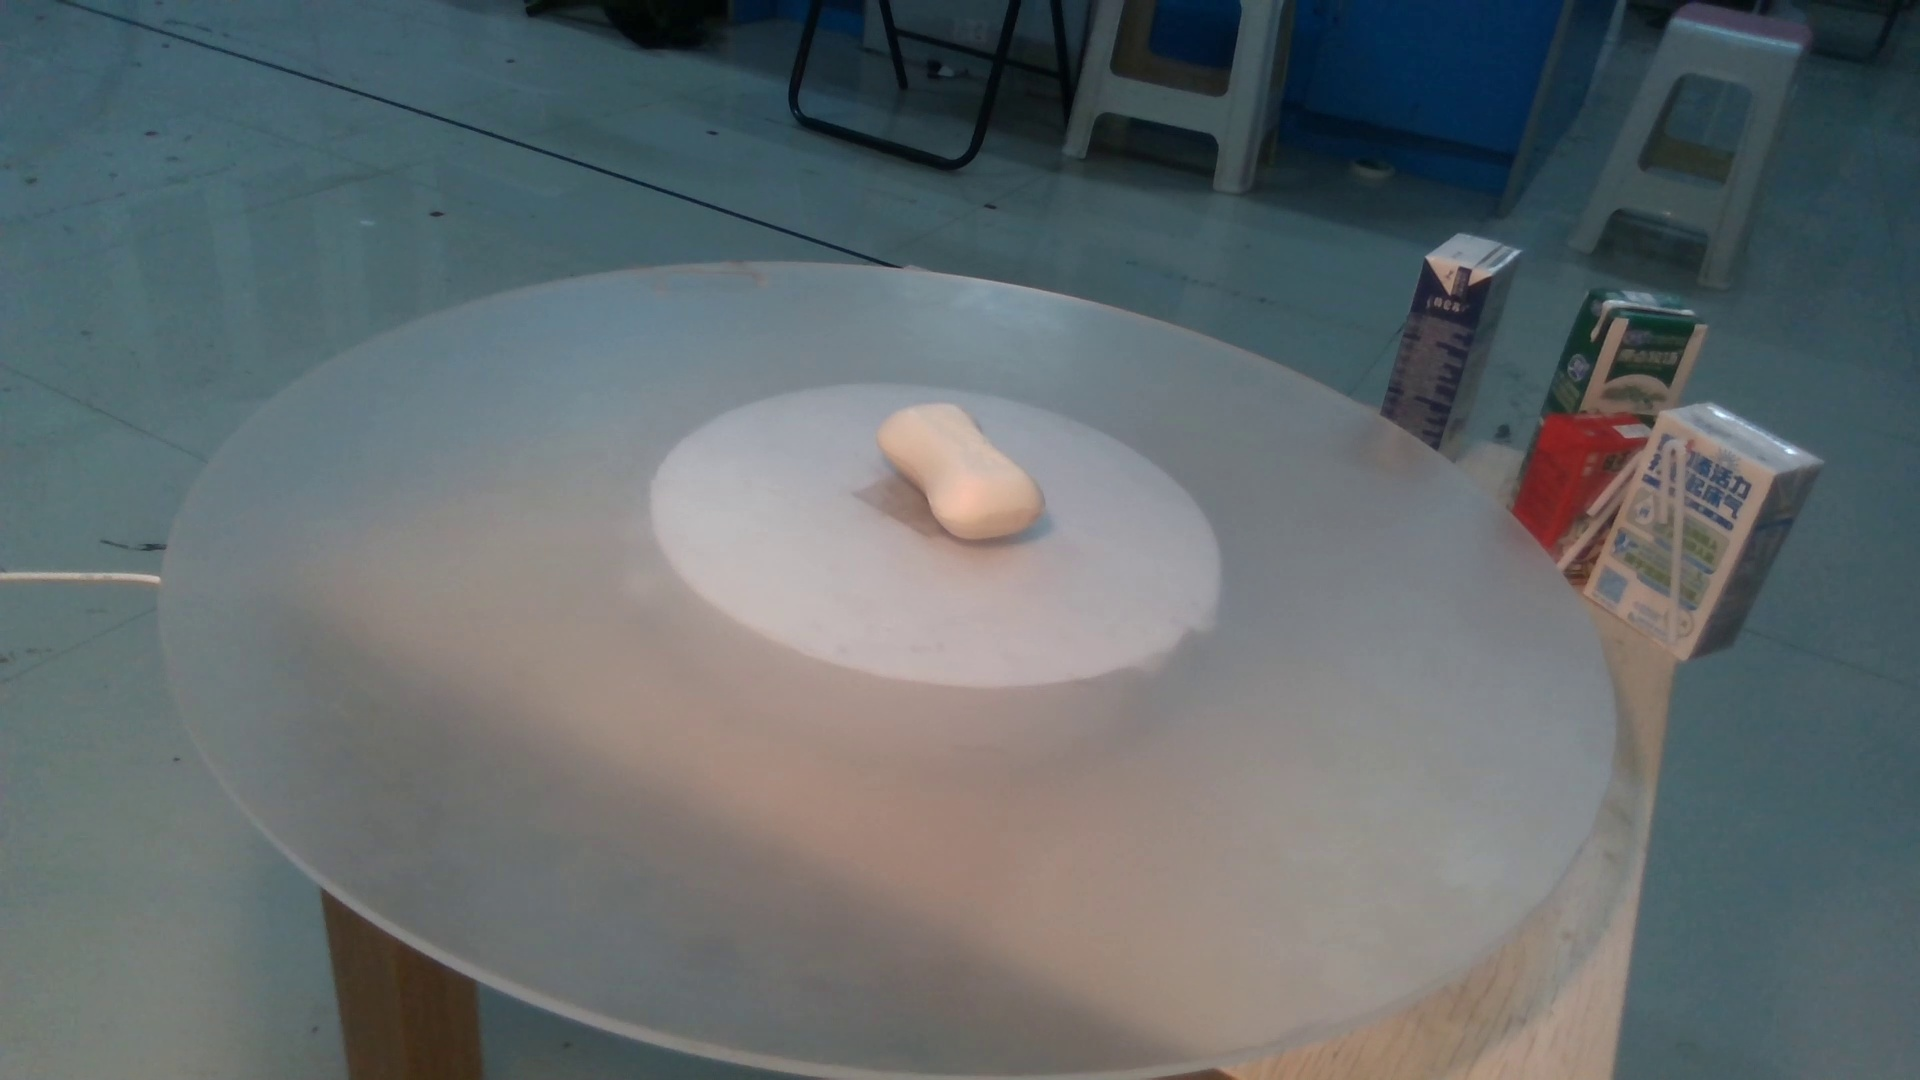CA003_1: (829, 367, 1083, 559)
